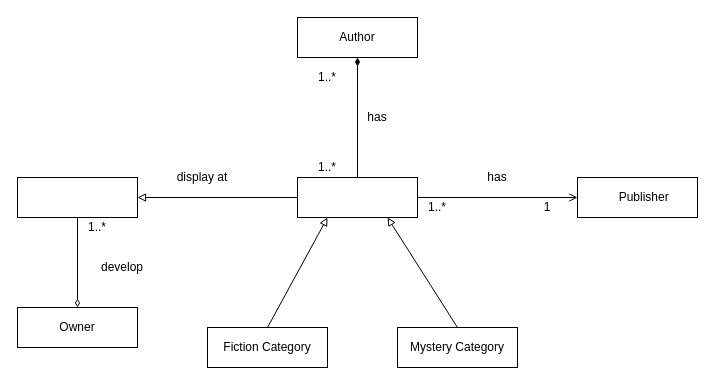
The diagram is 715 pixels wide and 385 high, and some of its shapes have lost their labels. The centre of each missing label's shape, as x and y in pixels:
Book: the point at 357,197
Library: the point at 77,197
